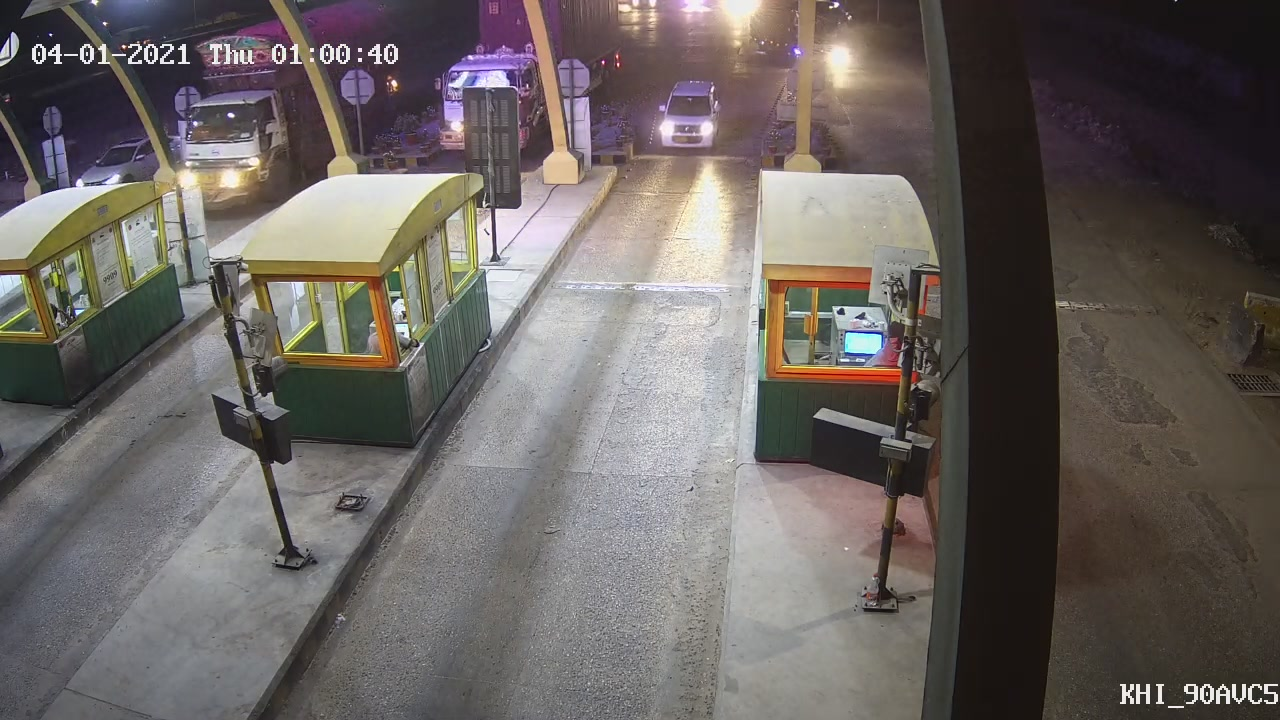F1: (648, 79, 725, 167)
